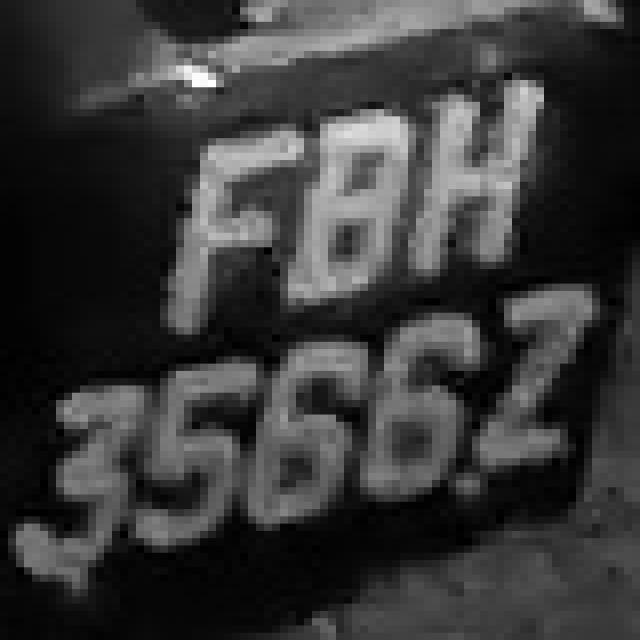3: (24, 349, 136, 582)
5: (112, 334, 256, 596)
6: (360, 305, 480, 502), (264, 313, 360, 538)
B: (296, 80, 408, 327)
F: (168, 94, 296, 342)
H: (416, 58, 552, 276)
Z: (472, 269, 608, 487)
